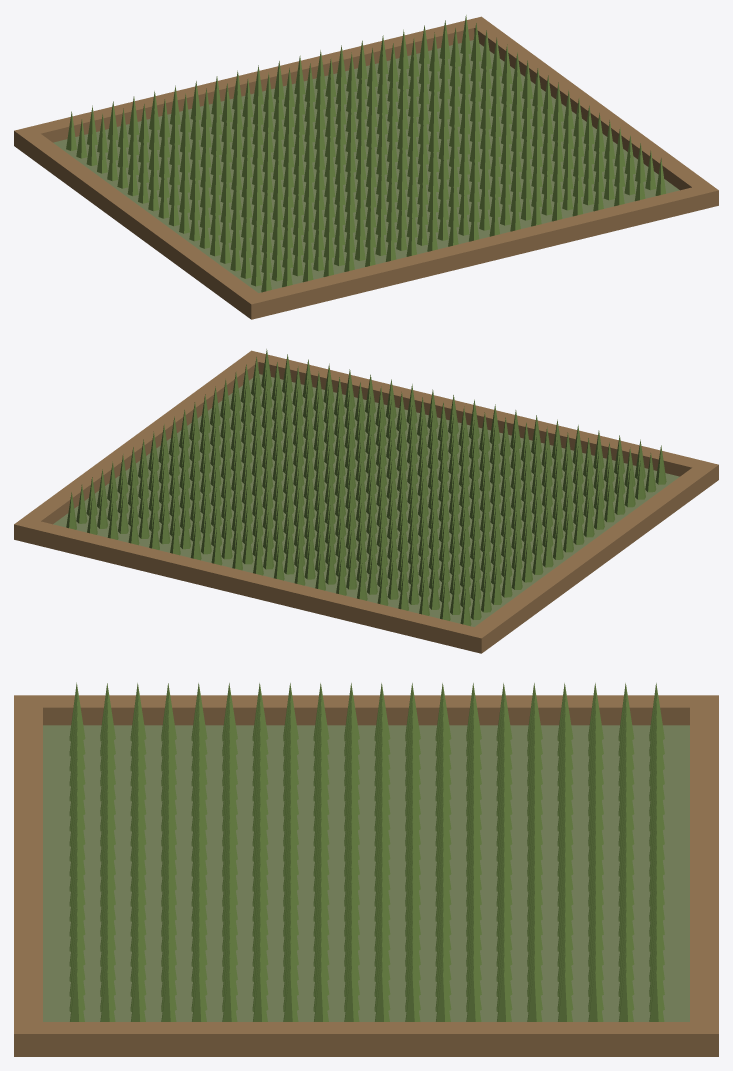
Rendered from paddy-ultra.glb.
The picture shows the model from 3 angles, top to bottom: view 1: azimuth 30°, elevation 25°; view 2: azimuth 150°, elevation 25°; view 3: azimuth 270°, elevation 25°; orthographic projection. The views are drawn at different scales.
Parts seen in each view (by area): view 1: paddy; view 2: paddy; view 3: paddy.
Part boxes in pixels (bbox=[...]): paddy: bbox=[14, 15, 718, 319]; paddy: bbox=[14, 349, 718, 653]; paddy: bbox=[14, 682, 718, 1056].
Size of the model in its own units: 8.3 by 0.7225 by 7.3.
